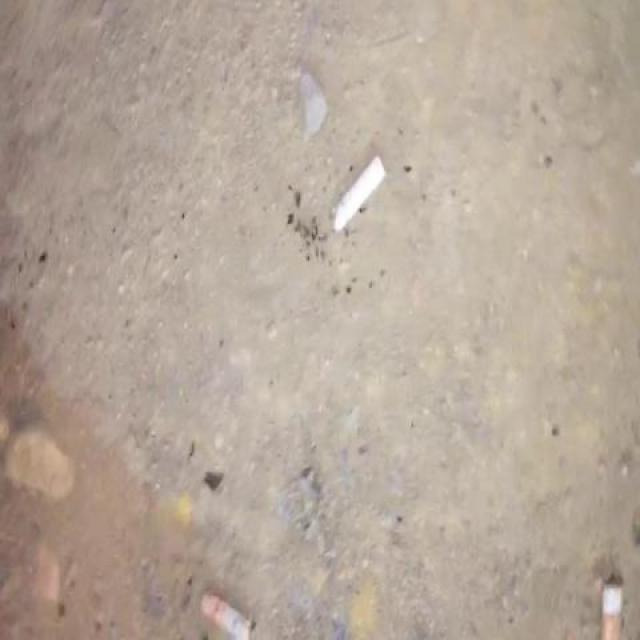non-organic waste: (328, 143, 393, 244)
